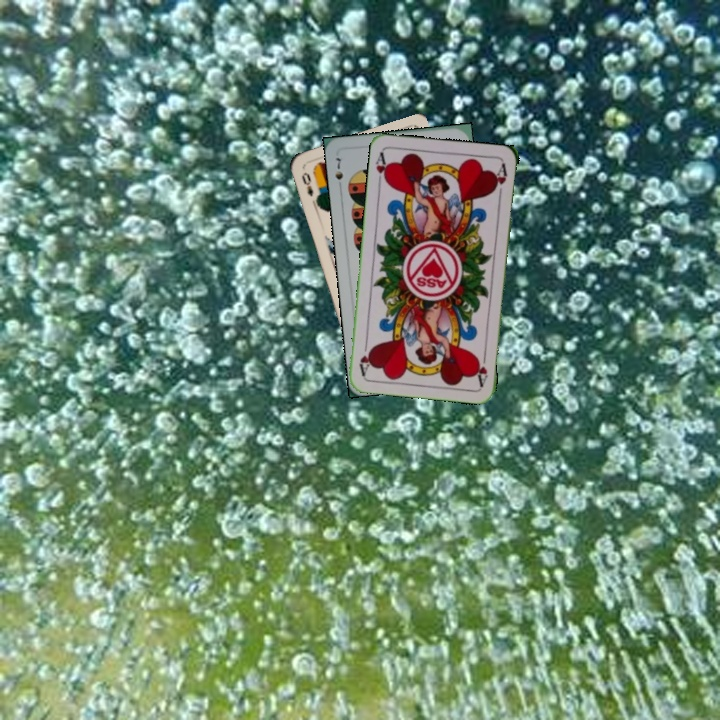EO: (298, 168, 316, 199)
HA: (372, 148, 391, 189), (473, 348, 490, 388)
S7: (331, 154, 346, 192)
